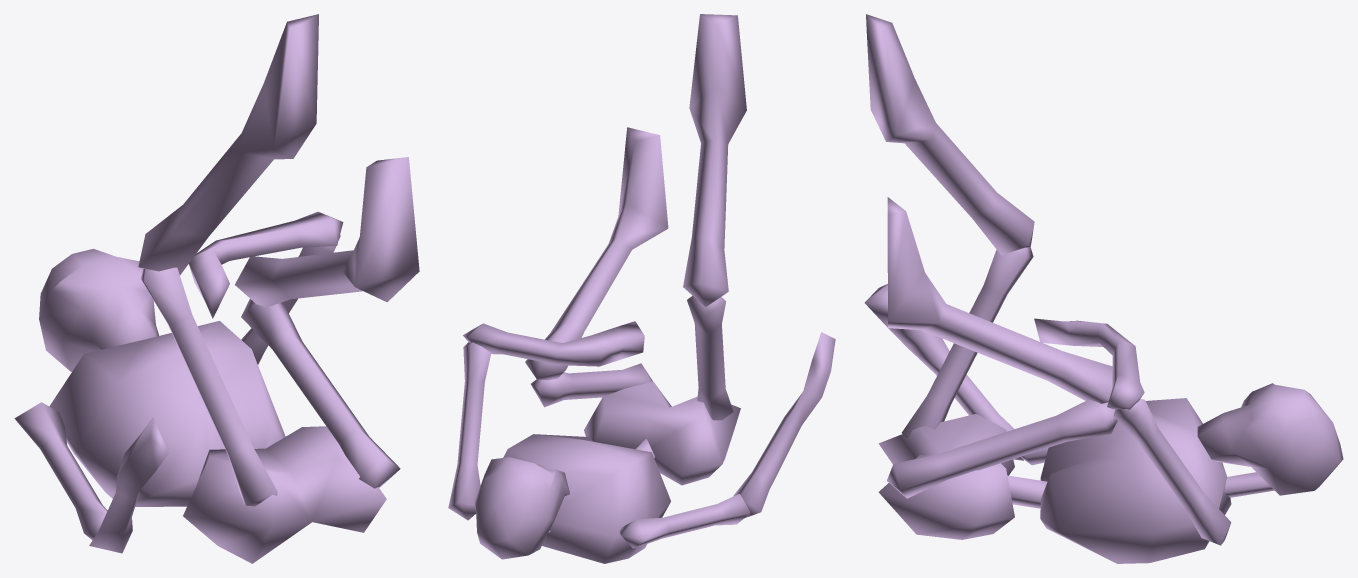
3 views of the same model, side by side, from view 1: azimuth 30°, elevation 25°; view 2: azimuth 150°, elevation 25°; view 3: azimuth 270°, elevation 25° (orthographic). The views are drawn at different scales.
Parts seen in each view (by area): view 1: Object32; view 2: Object32; view 3: Object32.
Part boxes in pixels (x1,y1,x2,y2): Object32: [14, 14, 419, 563]; Object32: [448, 14, 835, 563]; Object32: [864, 14, 1343, 563].
Size of the model in its own units: 7027 by 11207 by 9705.
